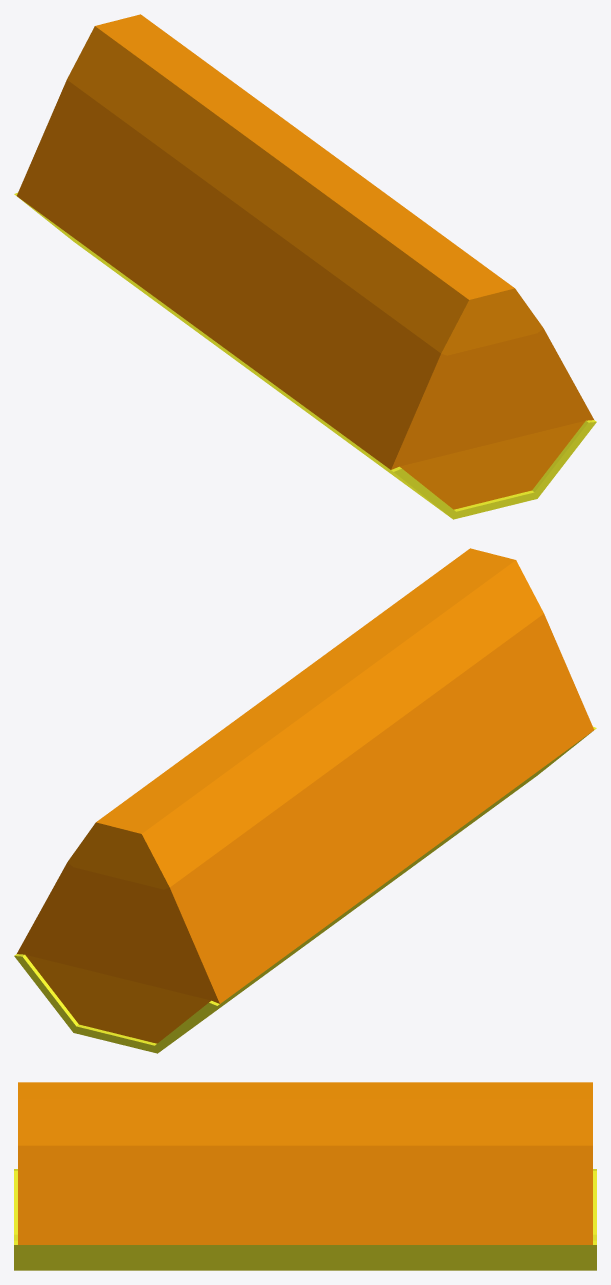
Rendered from Small Log_21.fbx.
The picture shows the model from 3 angles, top to bottom: view 1: azimuth 30°, elevation 25°; view 2: azimuth 150°, elevation 25°; view 3: azimuth 270°, elevation 25°; orthographic projection. The views are drawn at different scales.
Parts seen in each view (by area): view 1: Circle.341; view 2: Circle.341; view 3: Circle.341.
Part boxes in pixels (x1,y1,x2,y2): Circle.341: (14, 14, 596, 519); Circle.341: (14, 548, 596, 1053); Circle.341: (14, 1082, 596, 1270).
Bounding box in the file's own units: 7.35 × 7.38 × 23.76.
